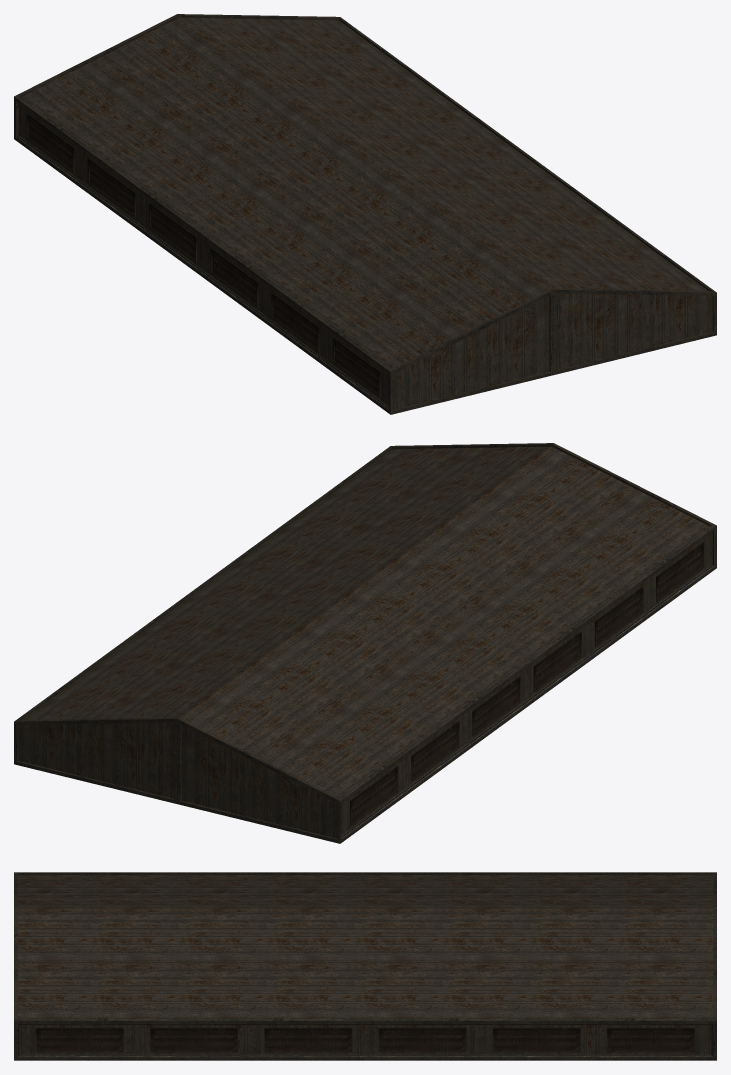
The model's file is roof_mh_4_b_4.obj.
3 views of the same model, one above another, from view 1: azimuth 30°, elevation 25°; view 2: azimuth 150°, elevation 25°; view 3: azimuth 270°, elevation 25° (orthographic). The views are drawn at different scales.
Parts seen in each view (by area): view 1: roof_mh_4_b_4; view 2: roof_mh_4_b_4; view 3: roof_mh_4_b_4.
Part boxes in pixels (bbox=[...]): roof_mh_4_b_4: bbox=[14, 14, 716, 414]; roof_mh_4_b_4: bbox=[14, 443, 716, 843]; roof_mh_4_b_4: bbox=[14, 872, 716, 1060].
Size of the model in its own units: 8 by 2 by 16.
